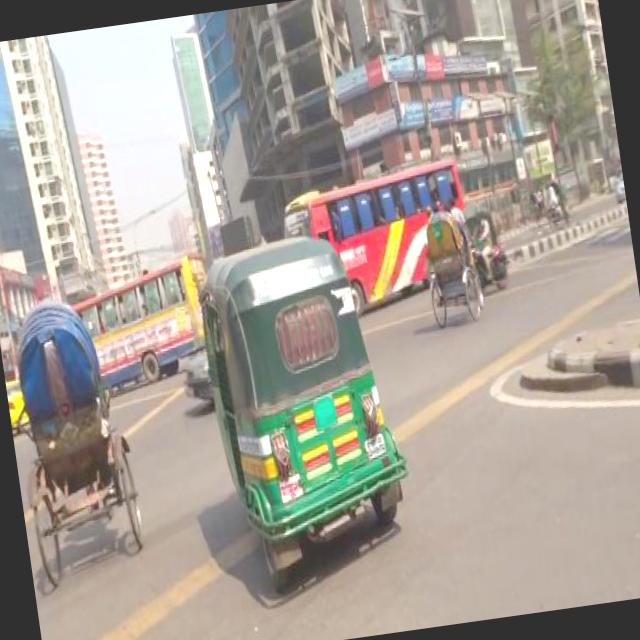bus: (276, 155, 476, 313), (62, 254, 218, 392)
car: (6, 380, 30, 430)
motorcycle: (189, 224, 421, 586), (1, 288, 150, 588), (416, 203, 486, 326), (471, 238, 511, 290), (538, 173, 570, 231)
